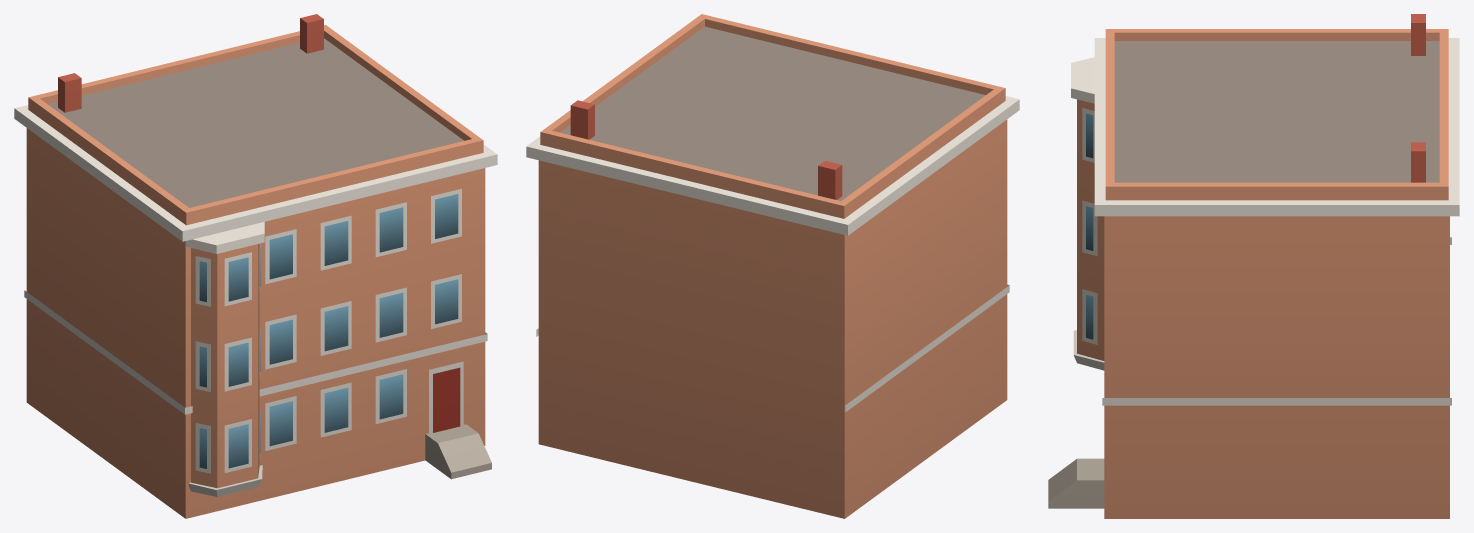
File: tremont_e2_far.glb
3 views of the same model, side by side, from view 1: azimuth 30°, elevation 25°; view 2: azimuth 150°, elevation 25°; view 3: azimuth 270°, elevation 25° (orthographic). The views are drawn at different scales.
Parts seen in each view (by area): view 1: tremont_e2_far; view 2: tremont_e2_far; view 3: tremont_e2_far.
Part boxes in pixels (left/top/right/bottom): tremont_e2_far: left=14, top=14, right=497, bottom=518; tremont_e2_far: left=526, top=14, right=1019, bottom=518; tremont_e2_far: left=1048, top=14, right=1459, bottom=518.
Size of the model in its own units: 13.14 by 13.09 by 13.68.
Materials: 1 (1 with a texture image).
